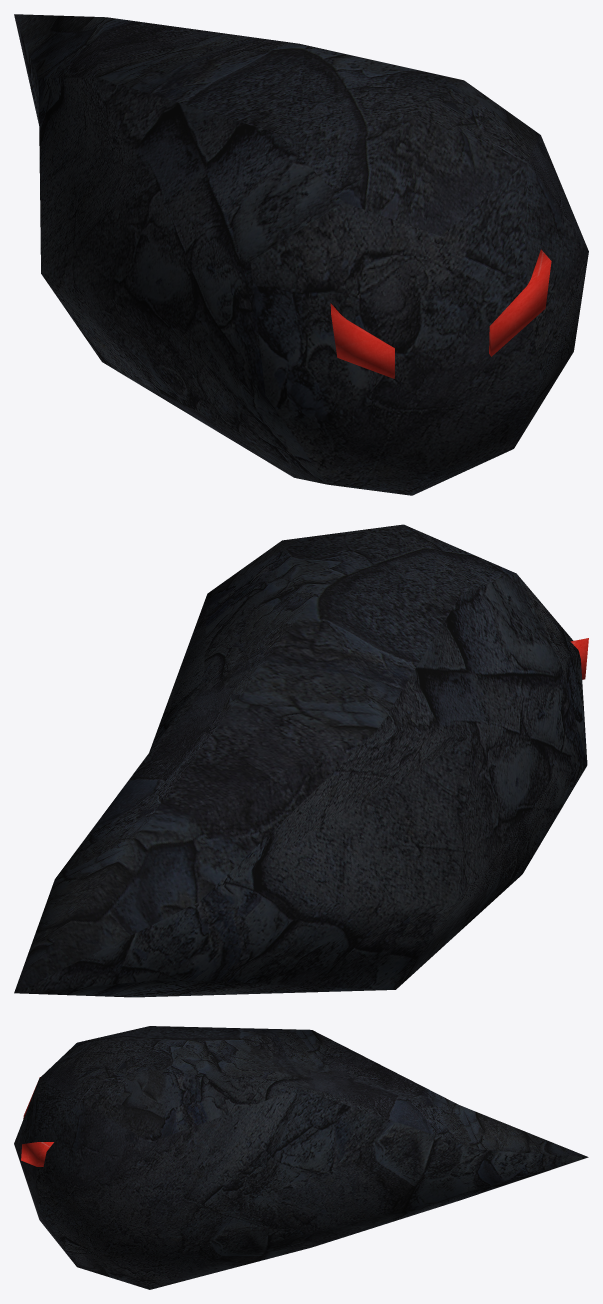
File: eel7.obj
The picture shows the model from 3 angles, top to bottom: view 1: azimuth 30°, elevation 25°; view 2: azimuth 150°, elevation 25°; view 3: azimuth 270°, elevation 25°; orthographic projection. The views are drawn at different scales.
Parts seen in each view (by area): view 1: Icosphere; view 2: Icosphere; view 3: Icosphere.
Boxes of the visible parts, box(x1,y1,x2,y2) form: Icosphere: box(14, 14, 588, 495); Icosphere: box(14, 524, 588, 997); Icosphere: box(14, 1026, 588, 1289).
Size of the model in its own units: 2.13 by 1.9 by 4.33.
Materials: 2 (2 with a texture image).
